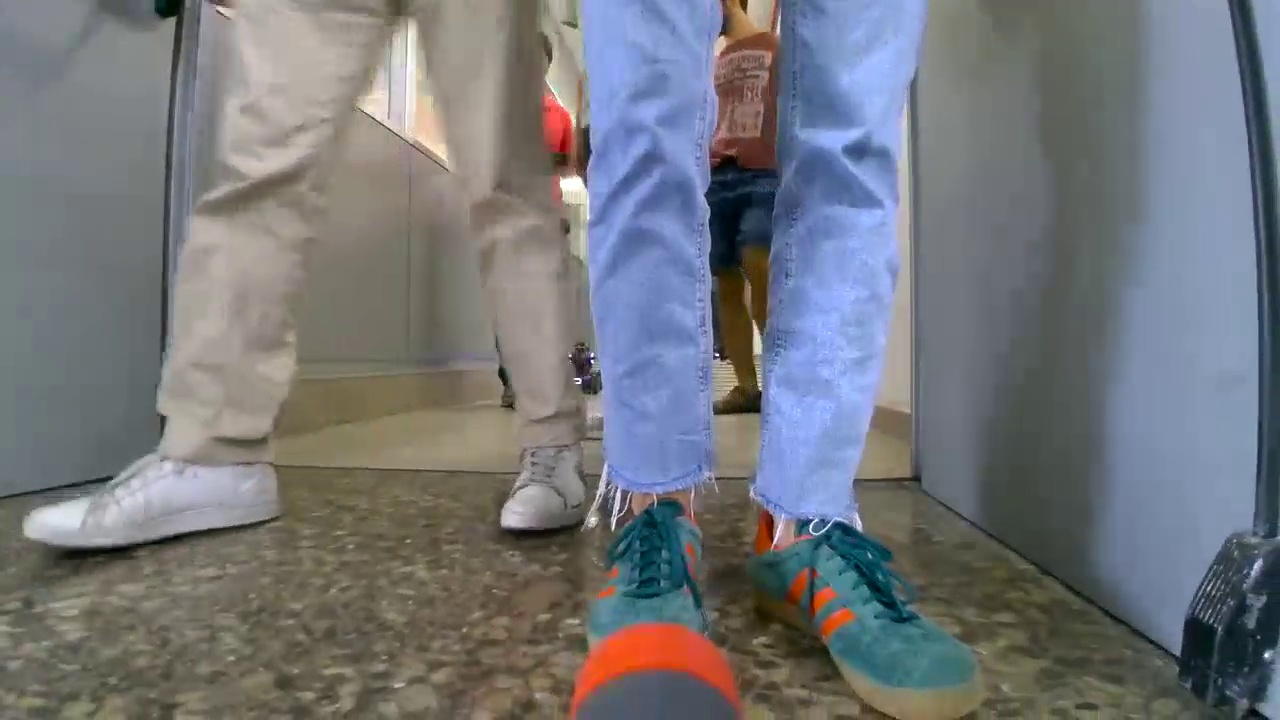robot: (549, 333, 608, 404)
